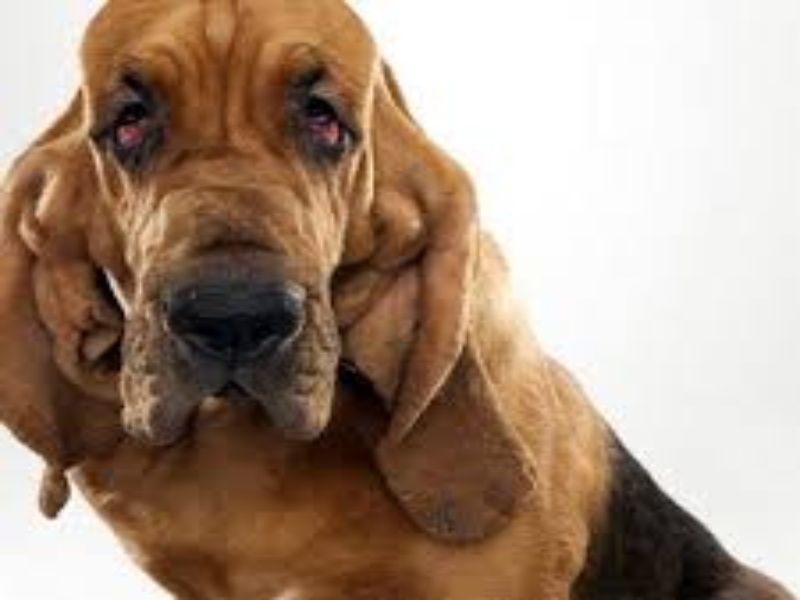dog: (6, 4, 593, 587)
